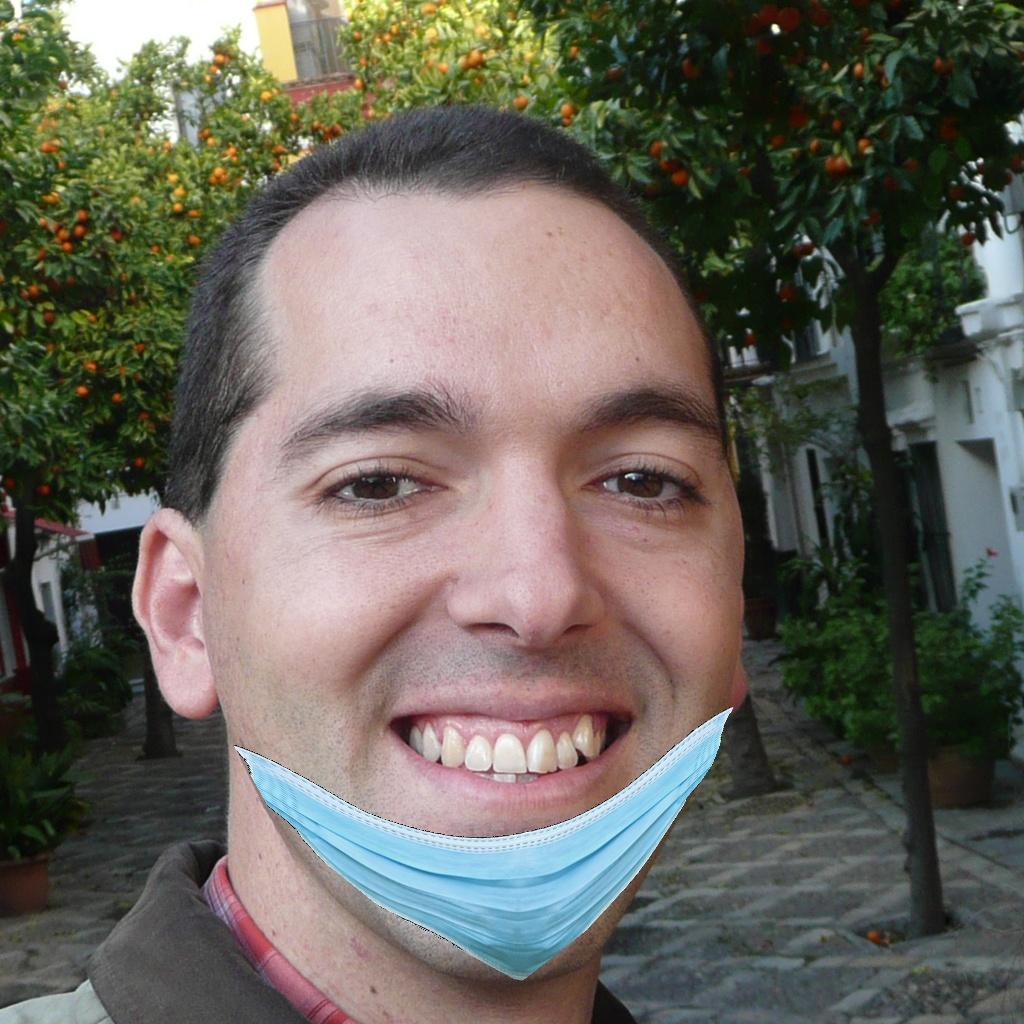Máscara Incorreta: (205, 295, 749, 971)
